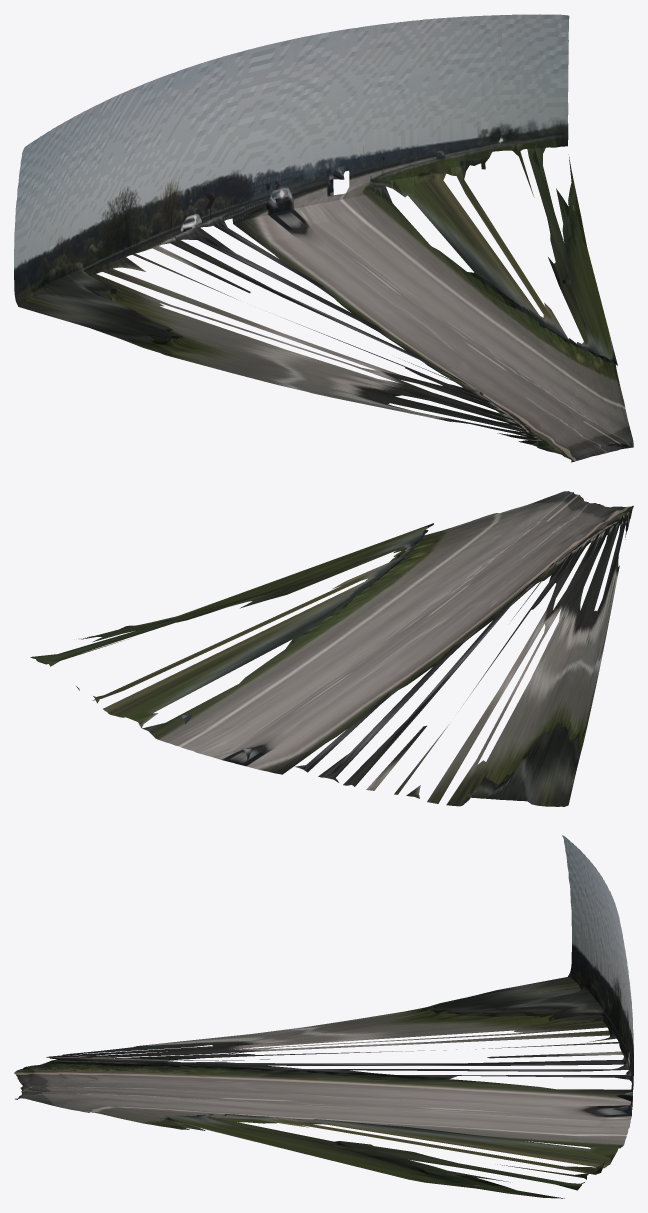
The picture shows the model from 3 angles, top to bottom: view 1: azimuth 30°, elevation 25°; view 2: azimuth 150°, elevation 25°; view 3: azimuth 270°, elevation 25°; orthographic projection. The views are drawn at different scales.
Visible parts, largest first — view 1: defaultobject; view 2: defaultobject; view 3: defaultobject.
Boxes of the visible parts, <box> form: defaultobject: <box>14,14,633,462</box>; defaultobject: <box>30,491,633,806</box>; defaultobject: <box>14,835,633,1198</box>.
Size of the model in its own units: 41.16 by 12.76 by 44.7.
1 material, 1 textured.
